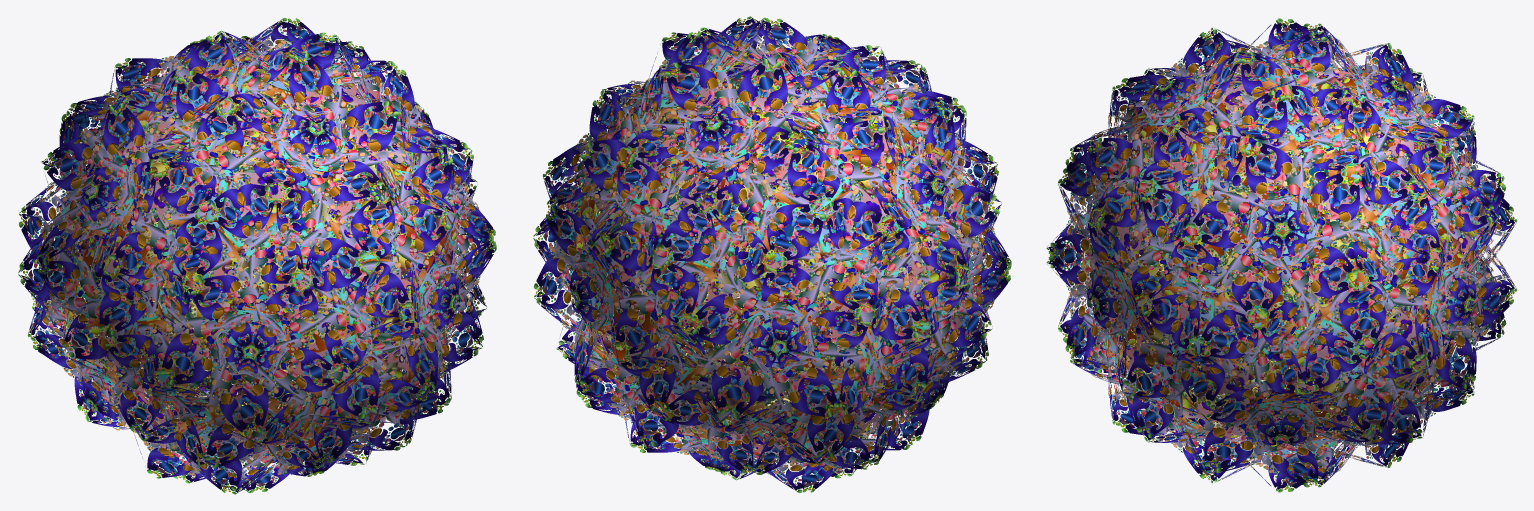
The model's file is GreatPentagonalHexecontahedron6.gltf.
3 renders of one model, left to right at view 1: azimuth 30°, elevation 25°; view 2: azimuth 150°, elevation 25°; view 3: azimuth 270°, elevation 25°, orthographic.
Visible parts, largest first — view 1: GreatPentagonalHexecontahedron5; view 2: GreatPentagonalHexecontahedron5; view 3: GreatPentagonalHexecontahedron5.
Boxes of the visible parts, x1,y1,x2,y2 form: GreatPentagonalHexecontahedron5: [18, 18, 496, 494]; GreatPentagonalHexecontahedron5: [533, 16, 1011, 492]; GreatPentagonalHexecontahedron5: [1046, 18, 1517, 492].
Size of the model in its own units: 1.42 by 1.42 by 1.42.
Materials: 1 (1 with a texture image).
